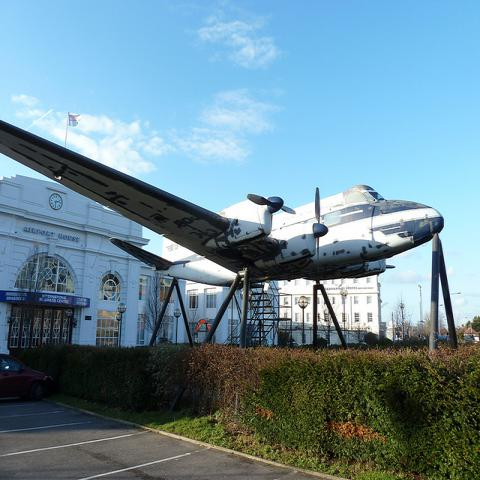car: (0, 354, 55, 401)
